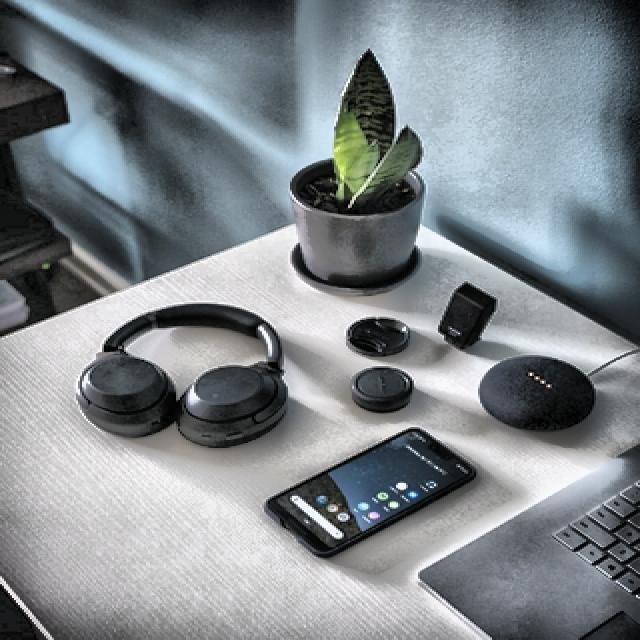Phone: (264, 426, 478, 558)
